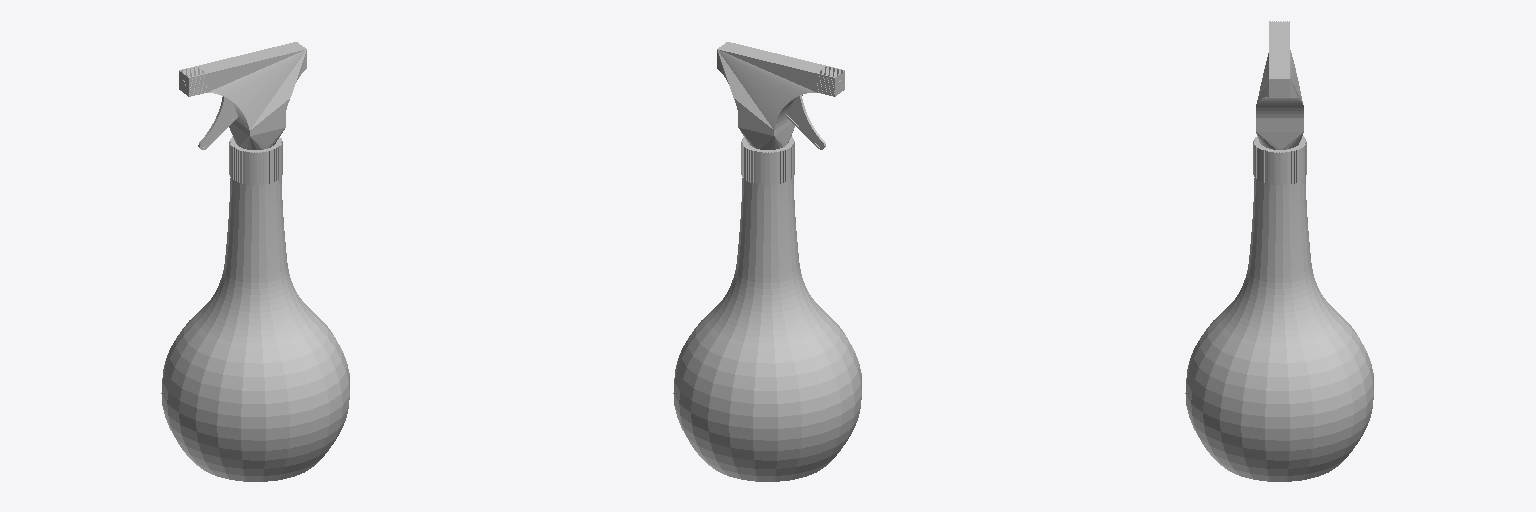
Rendered from Borrifador.obj.
3 views of the same model, side by side, from view 1: azimuth 30°, elevation 25°; view 2: azimuth 150°, elevation 25°; view 3: azimuth 270°, elevation 25° (orthographic).
Parts seen in each view (by area): view 1: Mesh2 Group1 Component_3__2_1 Model, Mesh19 Group8 Group7 Group6 Group4 Group2 Component_3__2_1 Model, Mesh21 Group9 Group7 Group6 Group4 Group2 Component_3__2_1 Model, Mesh13 Group5 Group4 Group2 Component_3__2_1 Model; view 2: Mesh2 Group1 Component_3__2_1 Model, Mesh19 Group8 Group7 Group6 Group4 Group2 Component_3__2_1 Model, Mesh21 Group9 Group7 Group6 Group4 Group2 Component_3__2_1 Model, Mesh13 Group5 Group4 Group2 Component_3__2_1 Model; view 3: Mesh2 Group1 Component_3__2_1 Model, Mesh19 Group8 Group7 Group6 Group4 Group2 Component_3__2_1 Model.
Boxes of the visible parts, box(x1,y1,x2,y2) form: Mesh2 Group1 Component_3__2_1 Model: box(161, 177, 349, 481); Mesh19 Group8 Group7 Group6 Group4 Group2 Component_3__2_1 Model: box(198, 42, 306, 149); Mesh21 Group9 Group7 Group6 Group4 Group2 Component_3__2_1 Model: box(198, 96, 237, 149); Mesh13 Group5 Group4 Group2 Component_3__2_1 Model: box(179, 66, 206, 96); Mesh2 Group1 Component_3__2_1 Model: box(673, 177, 861, 481); Mesh19 Group8 Group7 Group6 Group4 Group2 Component_3__2_1 Model: box(717, 42, 826, 149); Mesh21 Group9 Group7 Group6 Group4 Group2 Component_3__2_1 Model: box(786, 95, 825, 149); Mesh13 Group5 Group4 Group2 Component_3__2_1 Model: box(817, 66, 844, 96); Mesh2 Group1 Component_3__2_1 Model: box(1185, 177, 1373, 481); Mesh19 Group8 Group7 Group6 Group4 Group2 Component_3__2_1 Model: box(1256, 30, 1303, 149).
Size of the model in its own units: 0.3386 by 0.7884 by 0.3386.